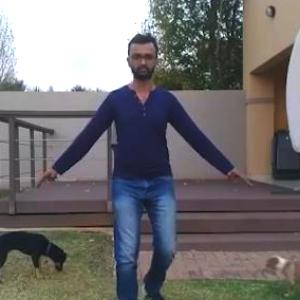land: (60, 47, 224, 299)
